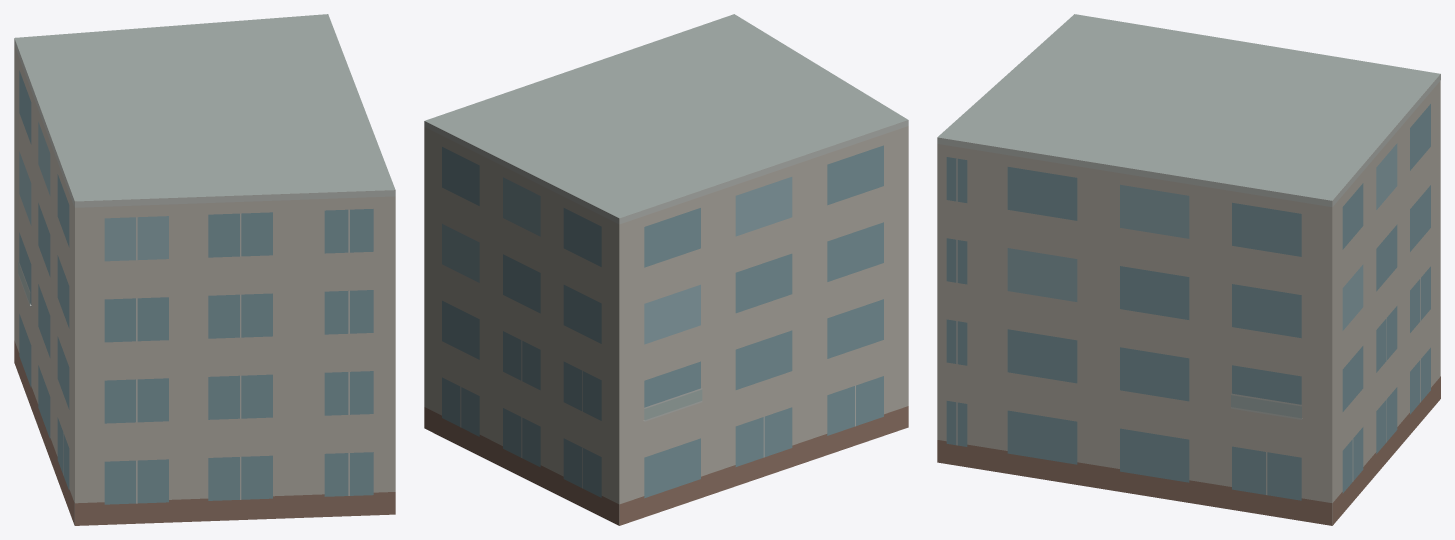
File: survey-upis-32883504.glb
3 views of the same model, side by side, from view 1: azimuth 30°, elevation 25°; view 2: azimuth 150°, elevation 25°; view 3: azimuth 270°, elevation 25° (orthographic). The views are drawn at different scales.
Parts seen in each view (by area): view 1: survey-upis-32883504.tmp; view 2: survey-upis-32883504.tmp; view 3: survey-upis-32883504.tmp.
Part boxes in pixels (x1,y1,x2,y2): survey-upis-32883504.tmp: (14, 14, 395, 525); survey-upis-32883504.tmp: (424, 14, 908, 525); survey-upis-32883504.tmp: (937, 14, 1440, 525).
Size of the model in its own units: 15.29 by 12.4 by 17.42.
